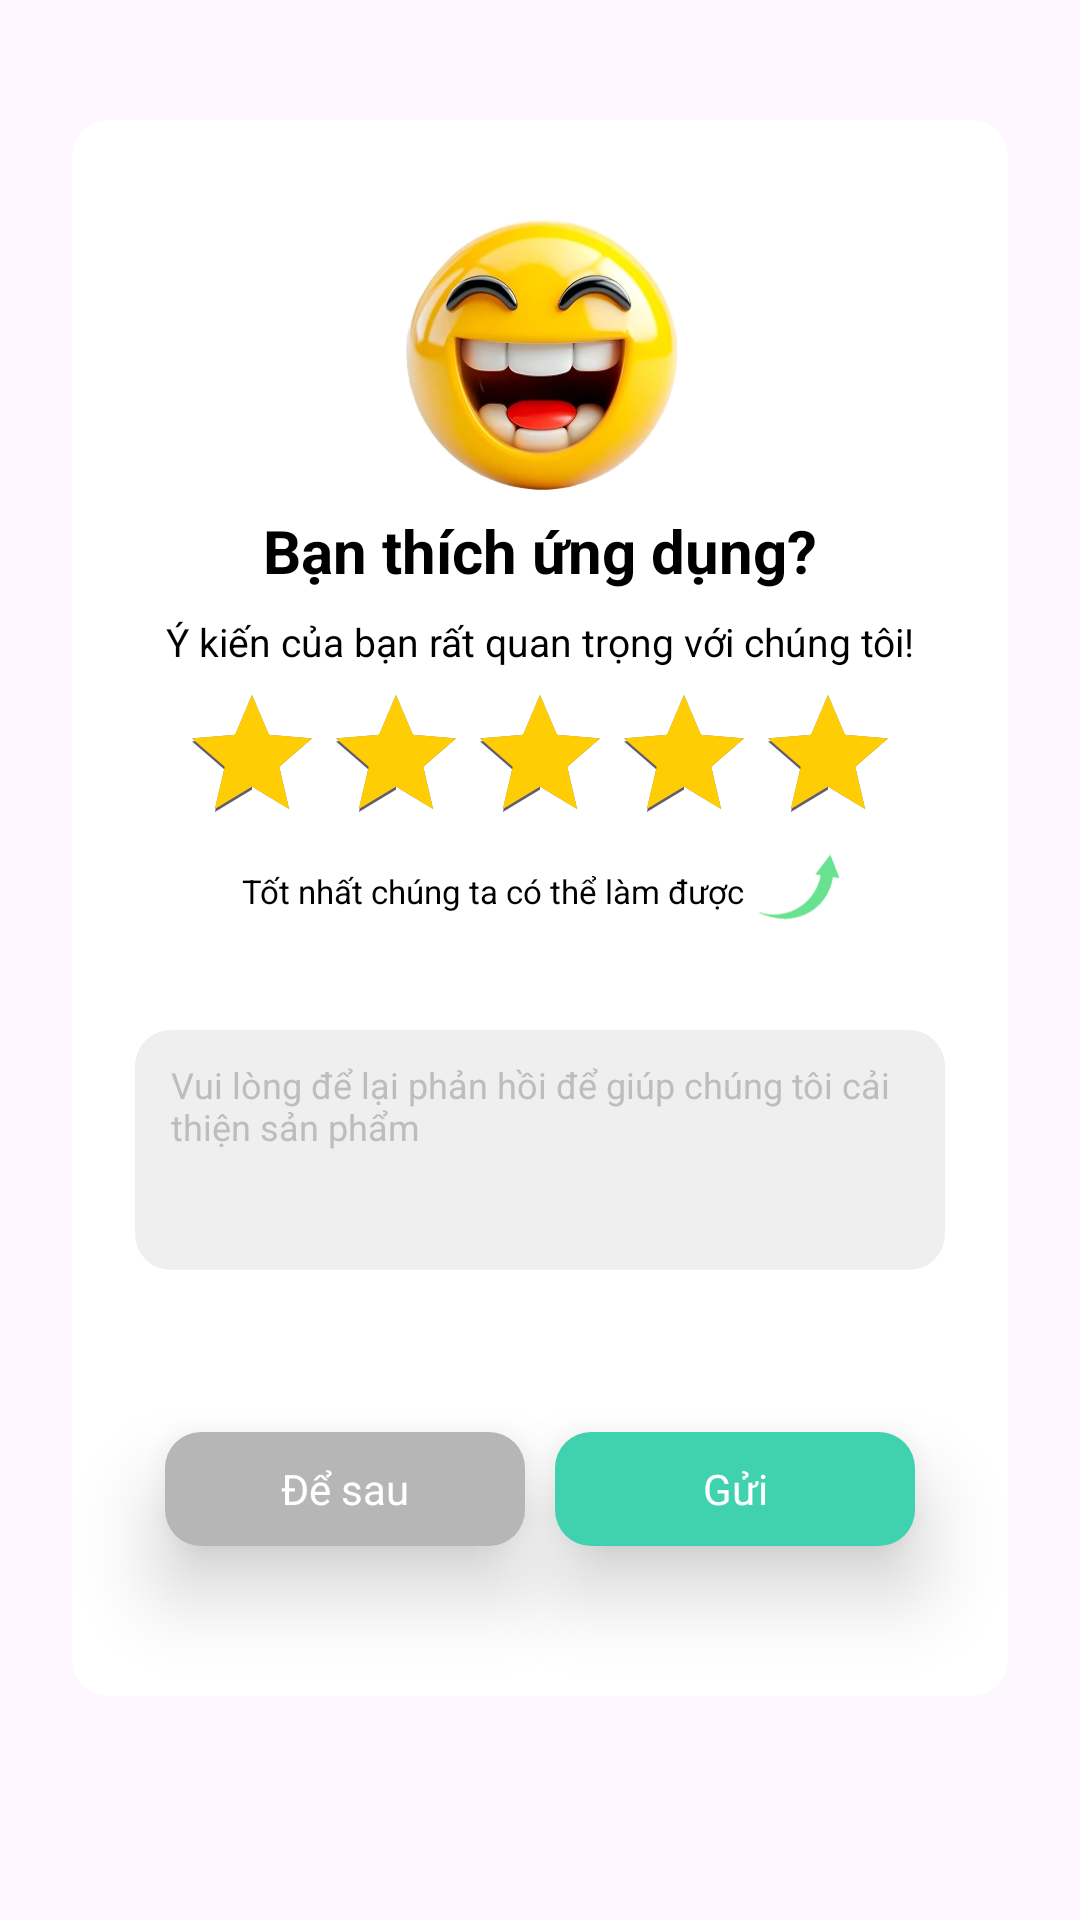

Screen size 1080x1920. Icon name, then its center in pixels as [x,y]:
rating happy: [541,355]
